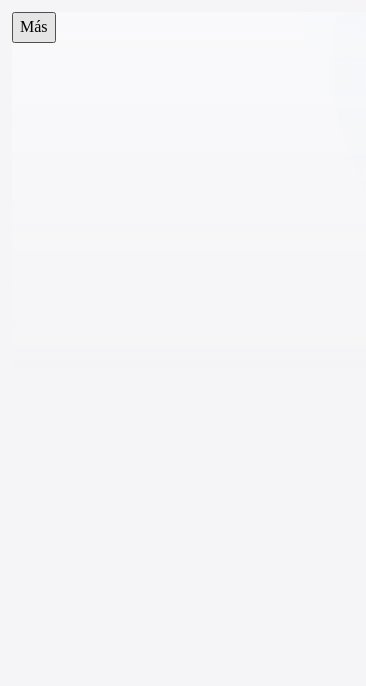
Test case: MoreMenu › closes as soon as a destination is chosen
What coordinates should you click on to do the following:
click the button "Más"
I would click on:
 (34, 27)
Its box is [12,12,56,43].
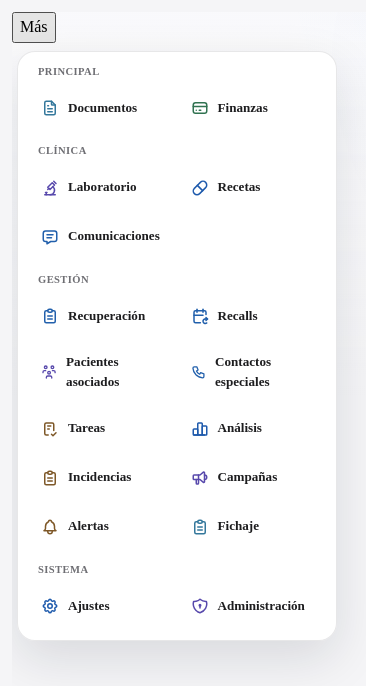
What coordinates should you click on to do the following:
click the link "Tareas"
I would click on:
 (73, 429)
Its box is [41,420,105,438].
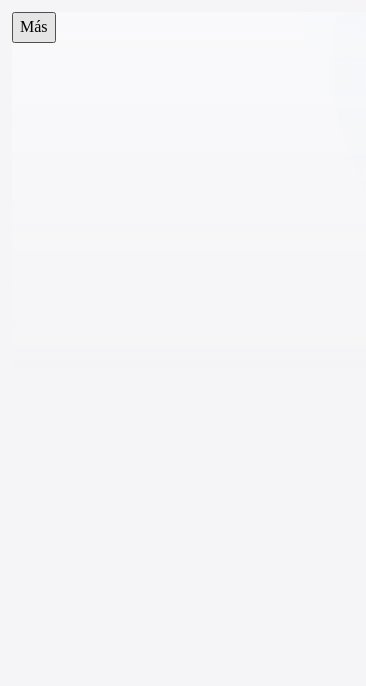
Result: the link "Tareas" is gone
